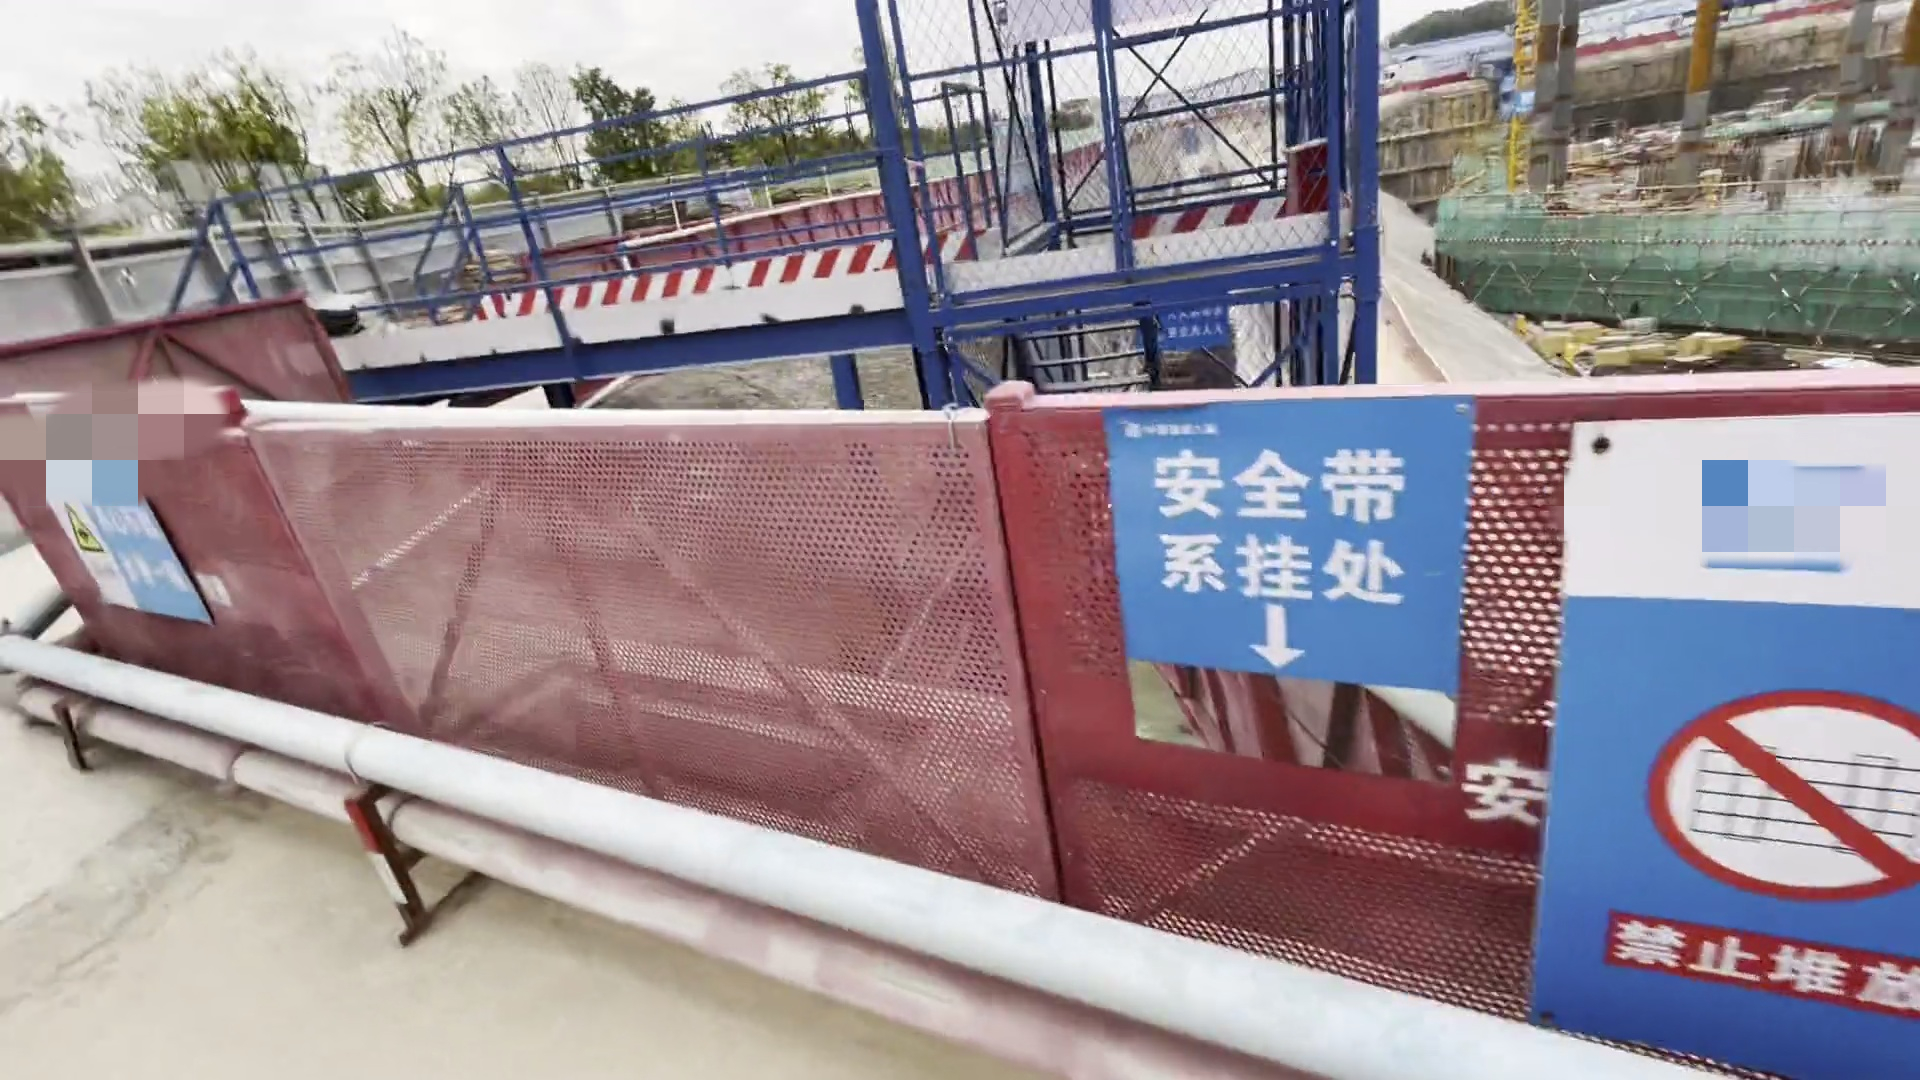fence: (69, 378, 1522, 971)
slogan: (1593, 460, 1920, 1062), (1108, 415, 1429, 657), (25, 433, 223, 641)
